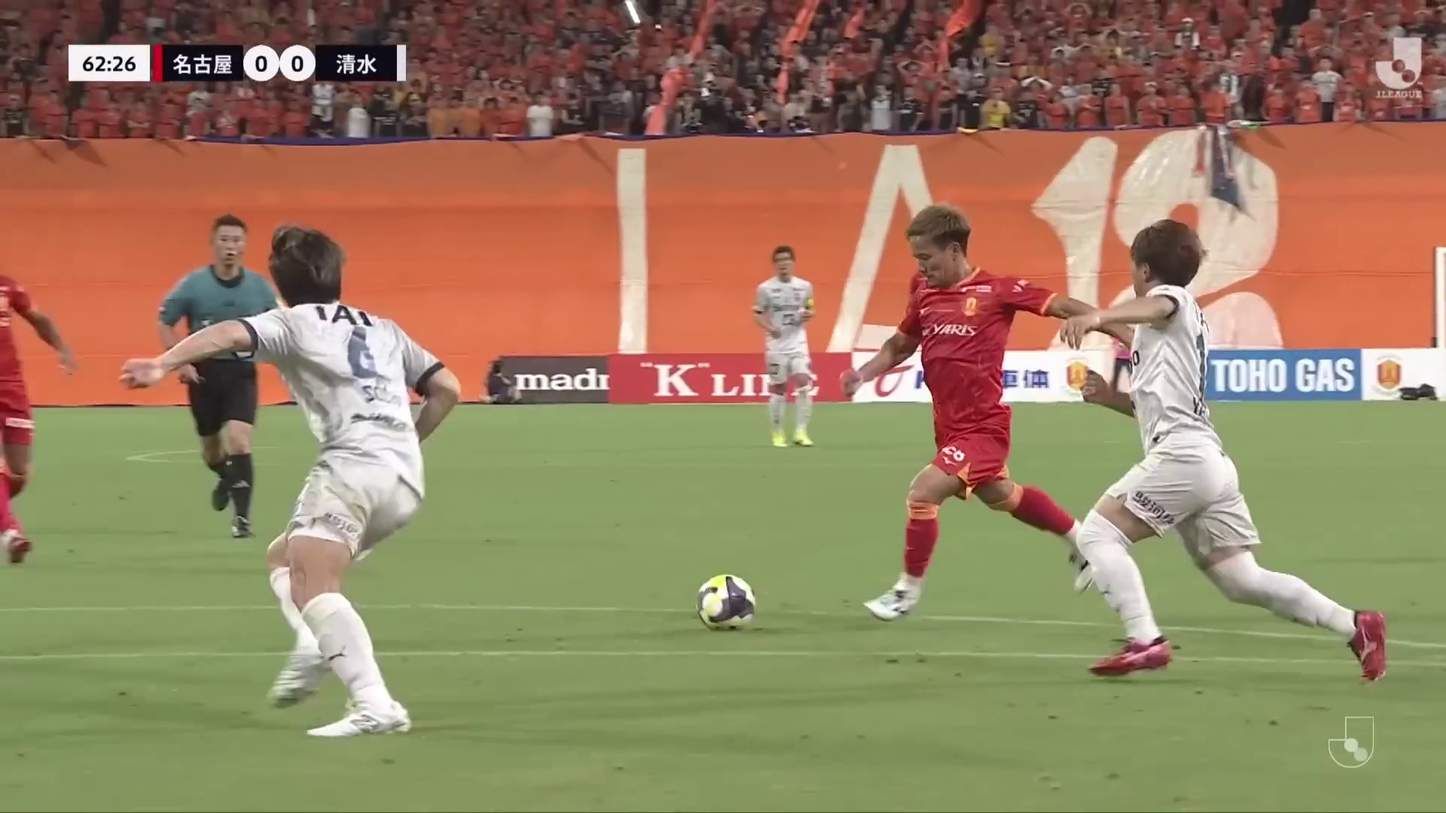ball: (695, 572, 756, 633)
player: (119, 224, 463, 740), (1074, 218, 1387, 683), (839, 202, 1133, 623), (750, 244, 817, 450)
referee: (158, 213, 279, 542)
